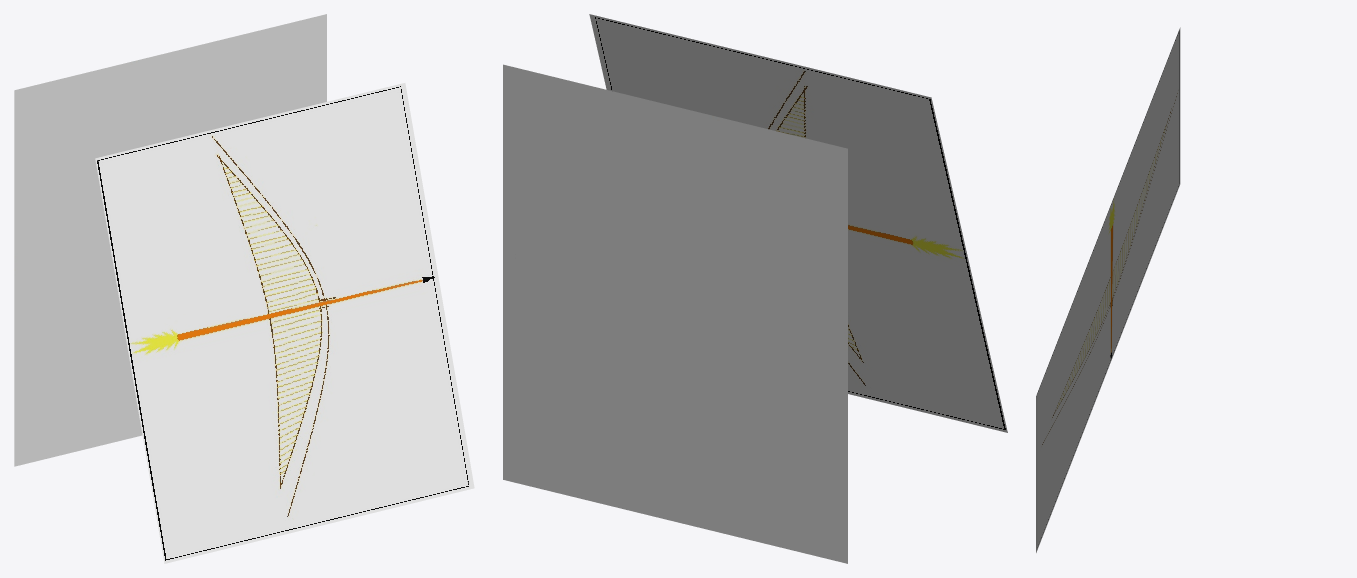
The model's file is Integrative bow and lyre.glb.
The picture shows the model from 3 angles, left to right: view 1: azimuth 30°, elevation 25°; view 2: azimuth 150°, elevation 25°; view 3: azimuth 270°, elevation 25°; orthographic projection. The views are drawn at different scales.
Visible parts, largest first — view 1: mesh_id29, mesh_id1; view 2: mesh_id1, mesh_id29; view 3: mesh_id29.
Boxes of the visible parts, left/top/right/bottom form: mesh_id29: left=95, top=83, right=474, bottom=563; mesh_id1: left=14, top=14, right=326, bottom=466; mesh_id1: left=503, top=64, right=847, bottom=563; mesh_id29: left=589, top=14, right=1007, bottom=432; mesh_id29: left=1036, top=27, right=1180, bottom=552.
Size of the model in its own units: 0.48 by 0.552 by 0.3921.
Materials: 2 (2 with a texture image).
